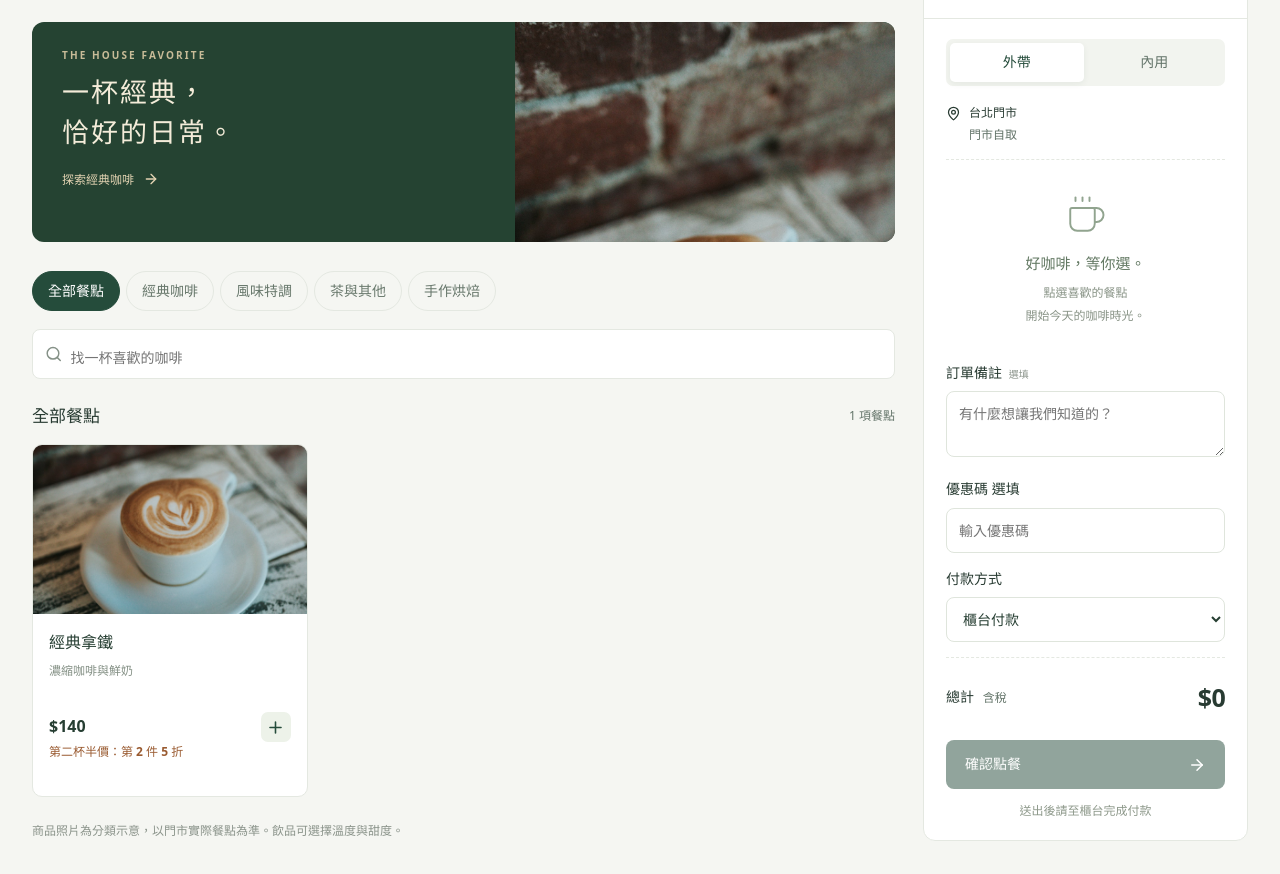
it: MenuView 可見性 › 購物車一件時提示再加一件可享第二件半價
(page scrolled)
Click the button "經典拿鐵 濃縮咖啡與鮮奶 $140 第二杯半價：第 2 件 5 折".
click(170, 530)  # box [32, 444, 308, 797]
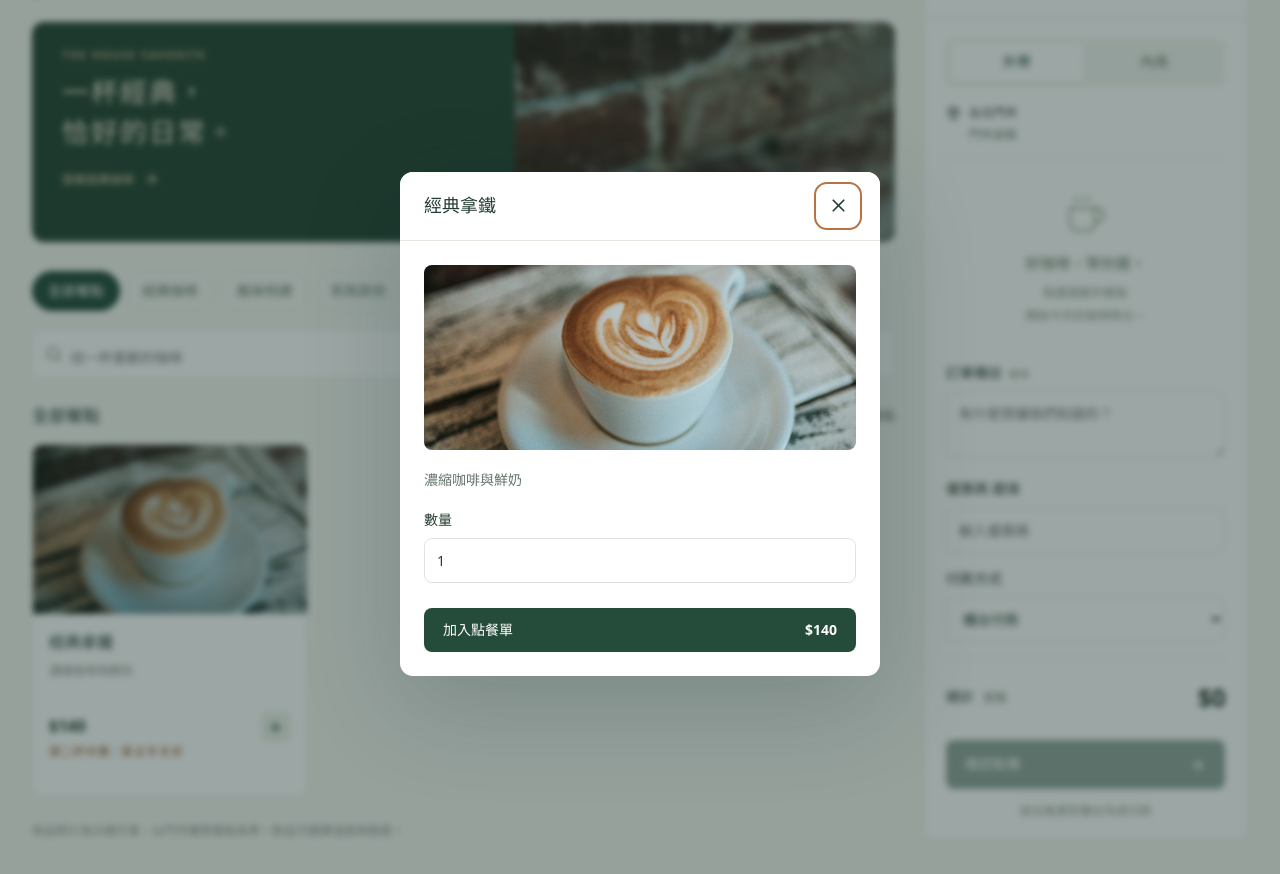
Expected: the button "加入點餐單 $140" is shown
Click the button "加入點餐單 $140".
click(478, 630)  # box [424, 608, 856, 652]
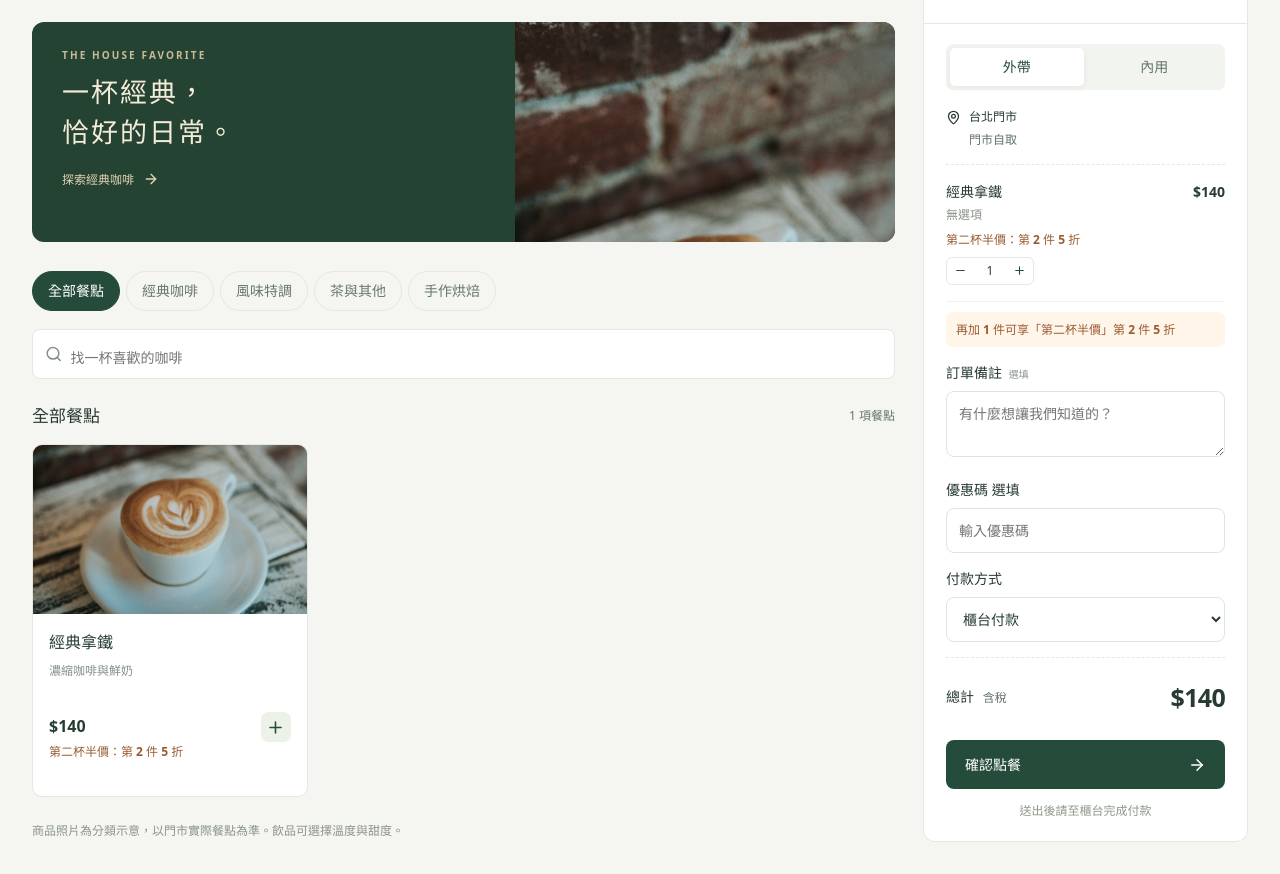
Expected: the text with class "cart-line-promo" reads "第二杯半價：第 2 件 5 折", [946, 230, 1080, 248]
Expected: the text with class "cart-promotion-progress" reads "再加 1 件可享「第二杯半價」第 2 件 5 折", [956, 321, 1175, 338]
